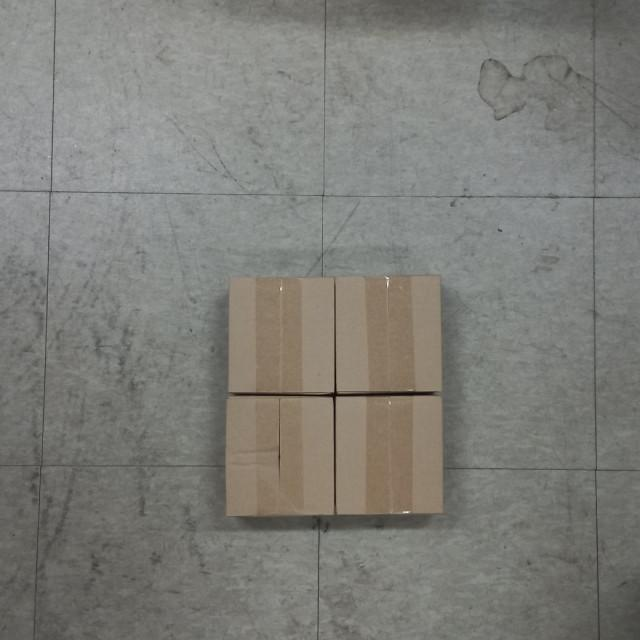box: (331, 390, 452, 522), (220, 391, 338, 526), (222, 271, 339, 401), (332, 269, 448, 395)
